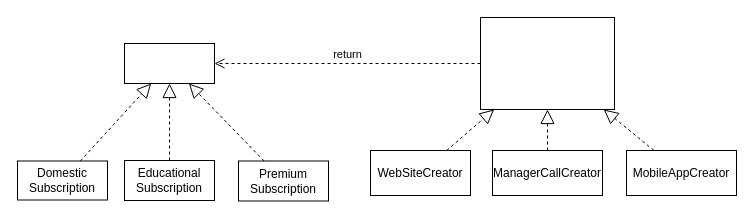
The diagram is 754 pixels wide and 219 high, and some of its shapes have lost their labels. The shapes that lost their labels are listed below. From the top down, each one's box as (x1, y1, x2, y2) in pixels, then its label:
(124, 42, 214, 84): «interface» ISubscription
(480, 16, 614, 110): <<Interface>> ICreator + createSubscription(): ISubscription
